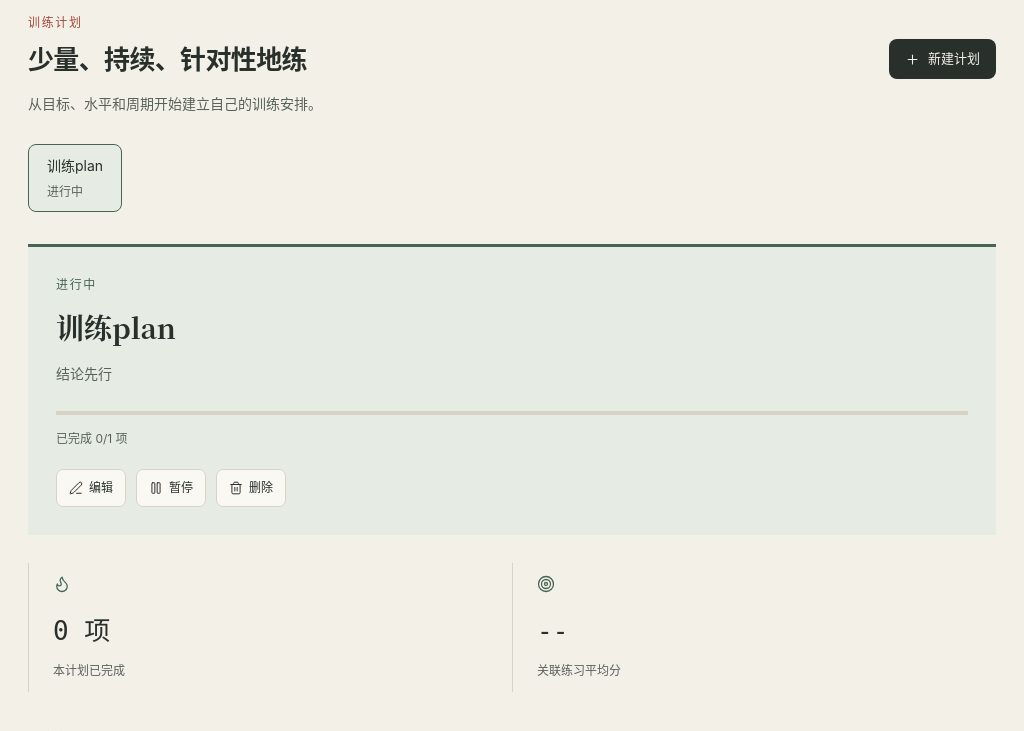
Scenario: TrainingPlan › 切换到仅有信息不足报告的场景时重新禁用基线评估
Click the button "编辑".
click(91, 488)  # box [56,469,126,507]
(page scrolled)
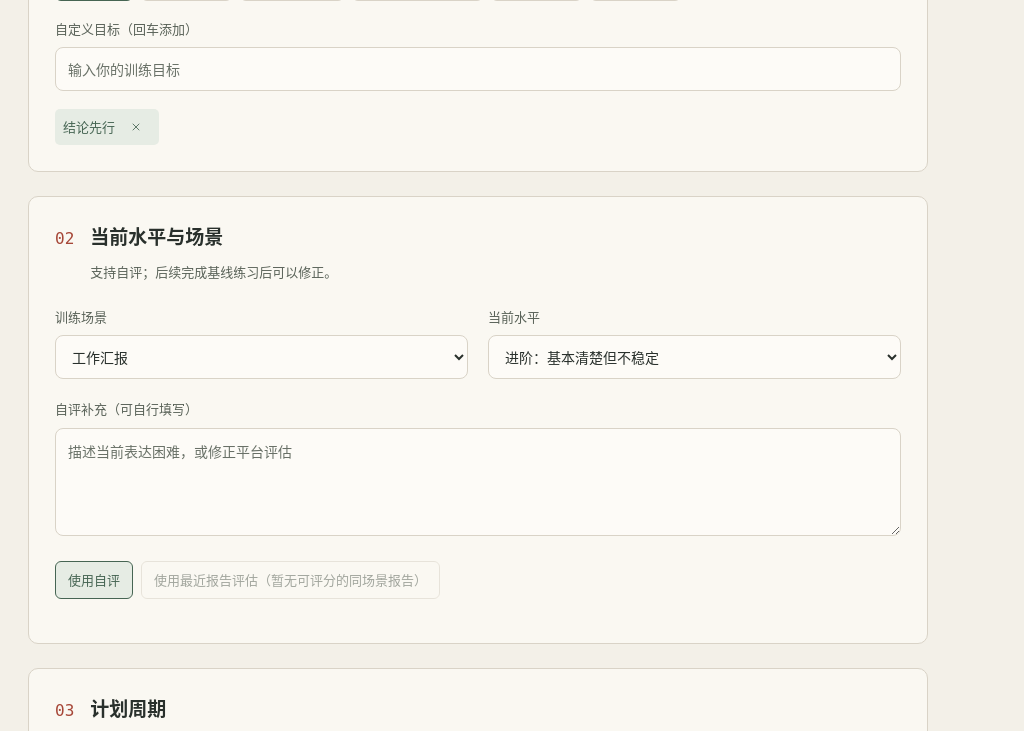
expect the button "使用最近报告评估（暂无可评分的同场景报告）" is disabled: met, box [141,560,440,599]
Select "岗位面试" in the dropdown labelled "训练场景" at (262, 357), box [55,335,468,379]
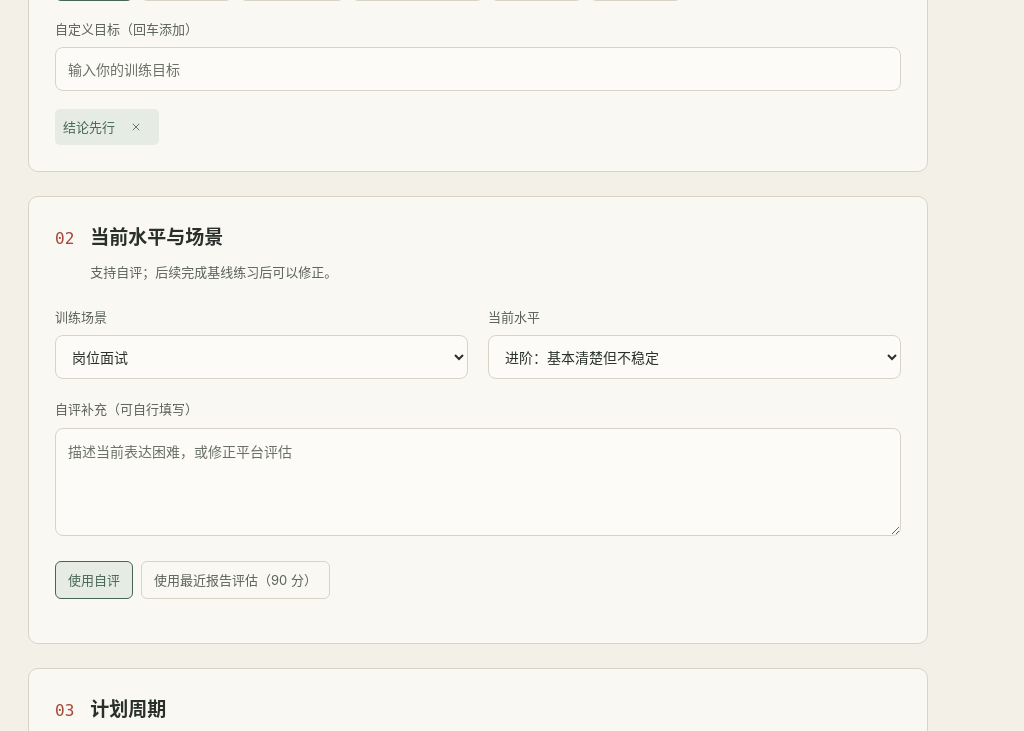
expect the button "使用最近报告评估（90 分）" is enabled: met, box [141,560,330,599]
Select "工作汇报" in the dropdown labelled "训练场景" at (262, 357), box [55,335,468,379]
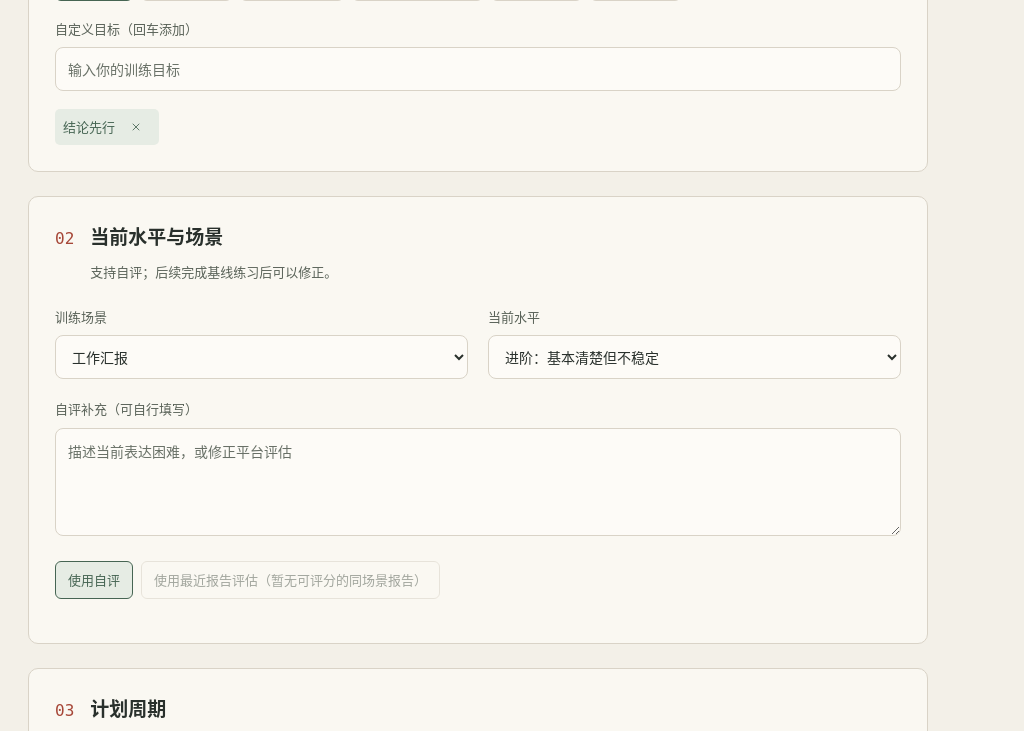
expect the button "使用最近报告评估（暂无可评分的同场景报告）" is disabled: met, box [141,560,440,599]
expect the button "使用最近报告评估（90 分）" is gone: met
